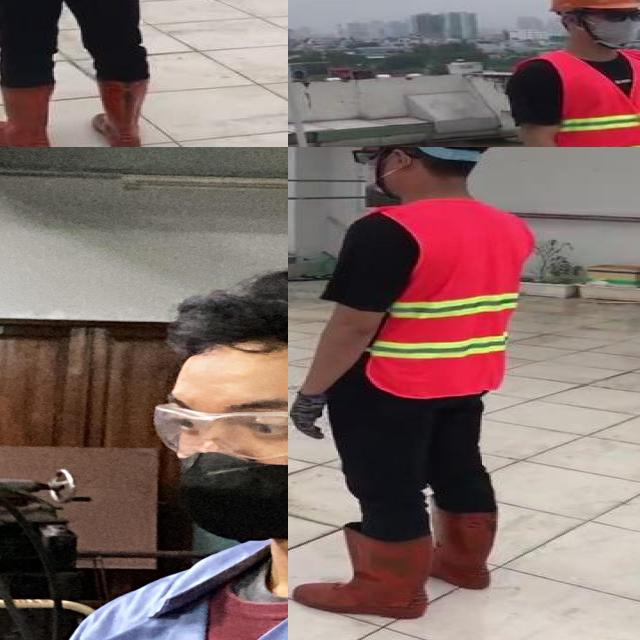boots: (294, 529, 431, 624), (434, 496, 500, 591), (89, 76, 153, 147), (0, 80, 57, 147)
face_mask: (583, 1, 640, 47)
face_nomask: (130, 388, 288, 536)
glasses: (140, 395, 288, 459), (582, 5, 640, 26)
hand_glove: (290, 389, 331, 439)
head_helmet: (545, 0, 640, 12)
head_nohelmet: (155, 261, 288, 380)
person: (288, 147, 551, 636), (0, 246, 288, 640), (0, 0, 189, 147), (495, 0, 640, 147)
vest: (361, 199, 535, 398), (506, 48, 640, 147)
